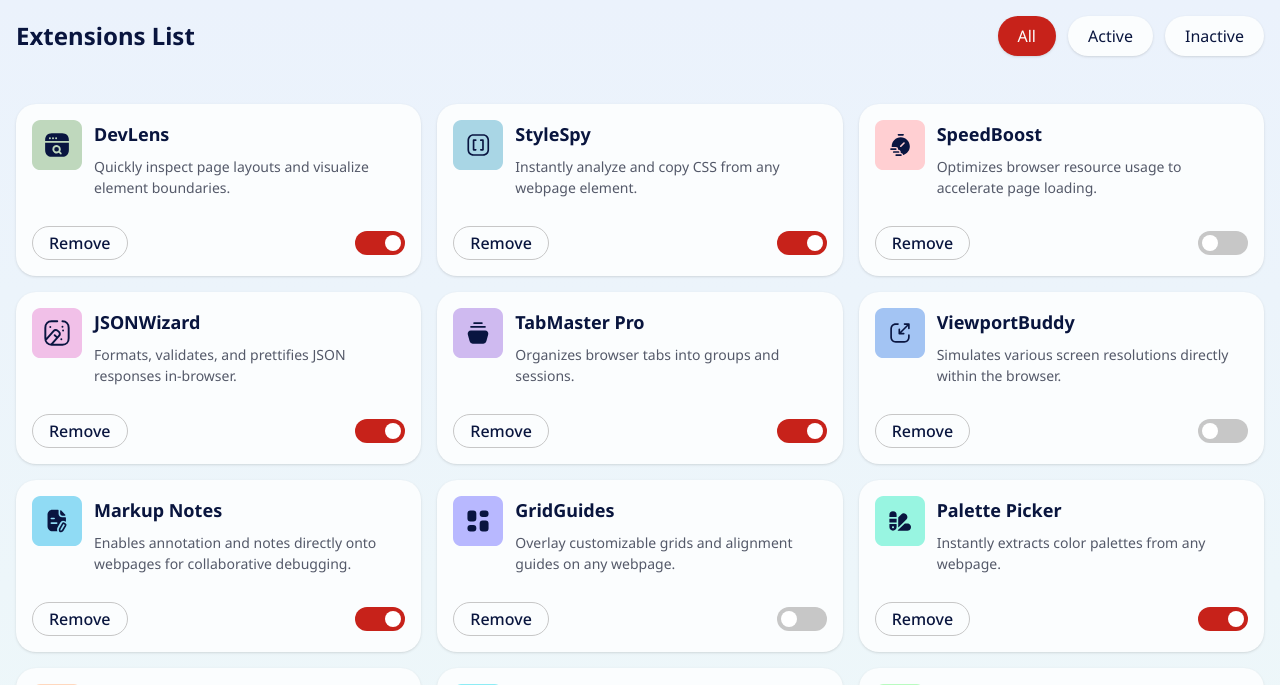
it: Extensions › removes extension when click remove
This screenshot has width=1280, height=685.
Click the button "Remove" below "DevLens". click: (80, 243)
box: [32,226,128,260]
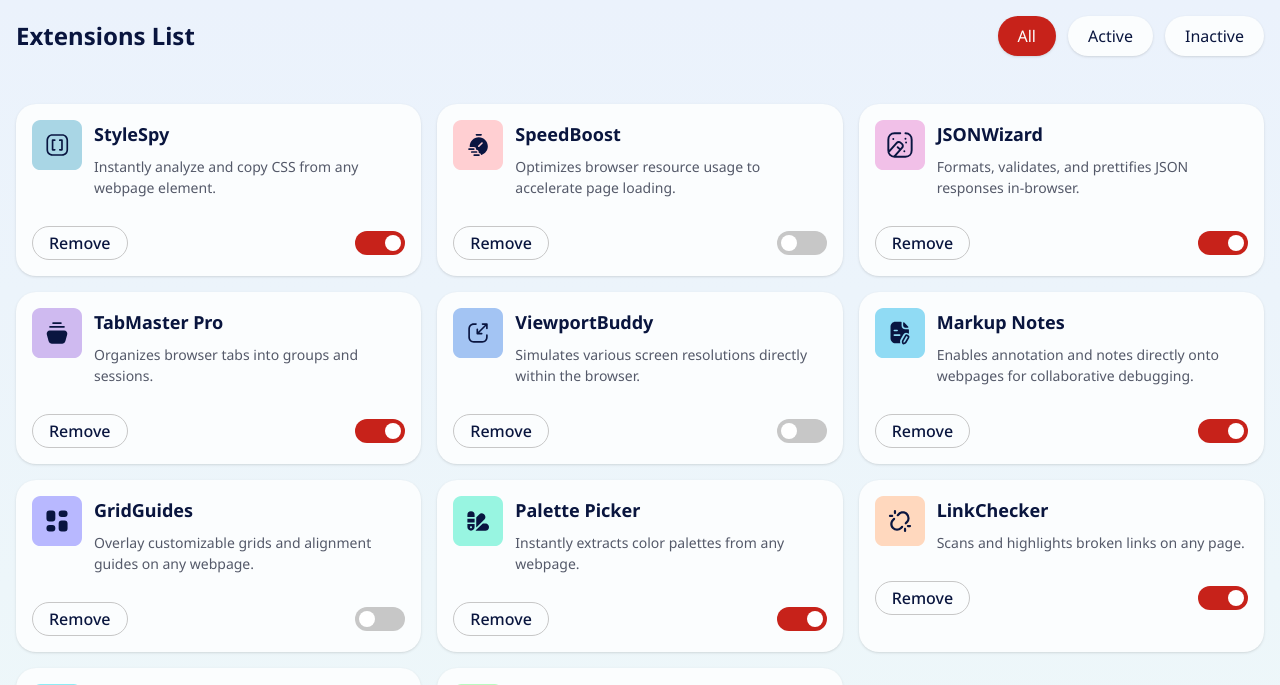
Result: the heading "DevLens" is gone
